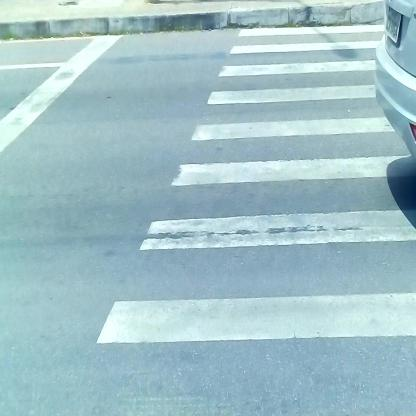crosswalk: (128, 24, 416, 416)
